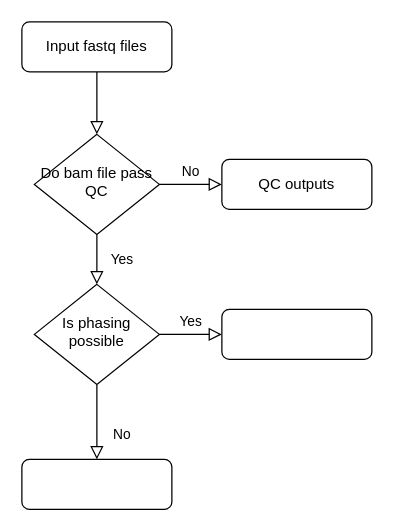
The diagram is 394 pixels wide and 531 high, and some of its shapes have lost their labels. The centre of each missing label's shape, as x and y in pixels:
"Other analysis" goes at point (96, 483).
"Perform phasing" goes at point (296, 333).
